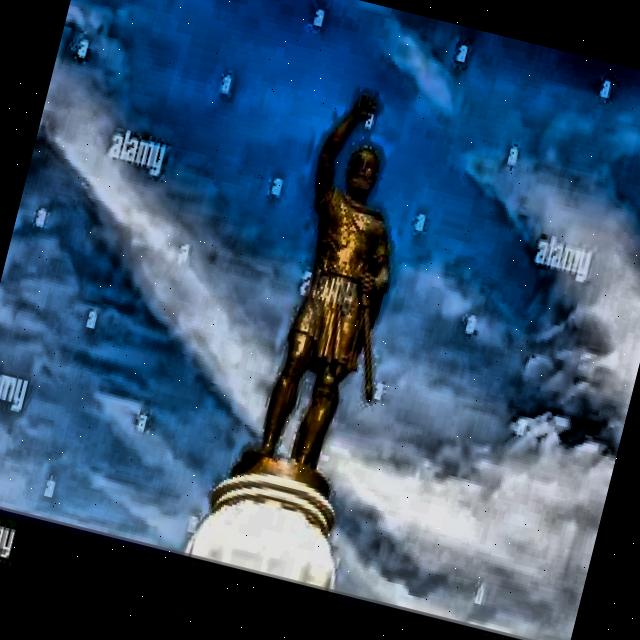Philip II of Macedonia: (205, 82, 448, 615)
